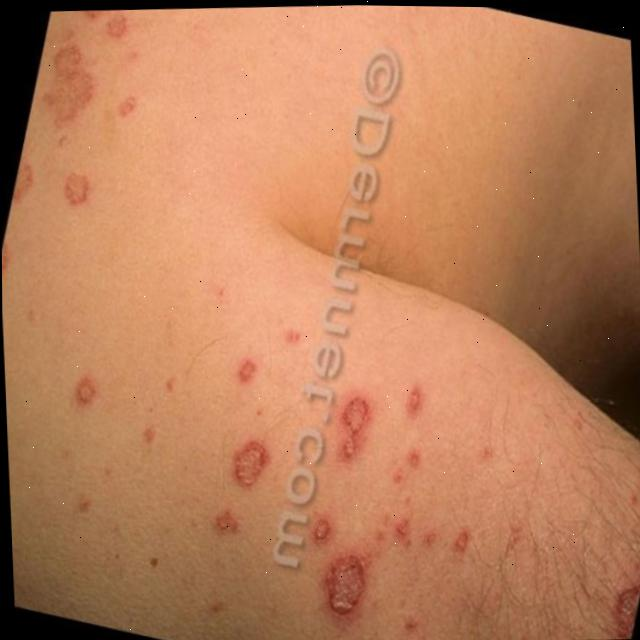Eczema: (64, 355, 505, 640), (20, 6, 165, 238)
